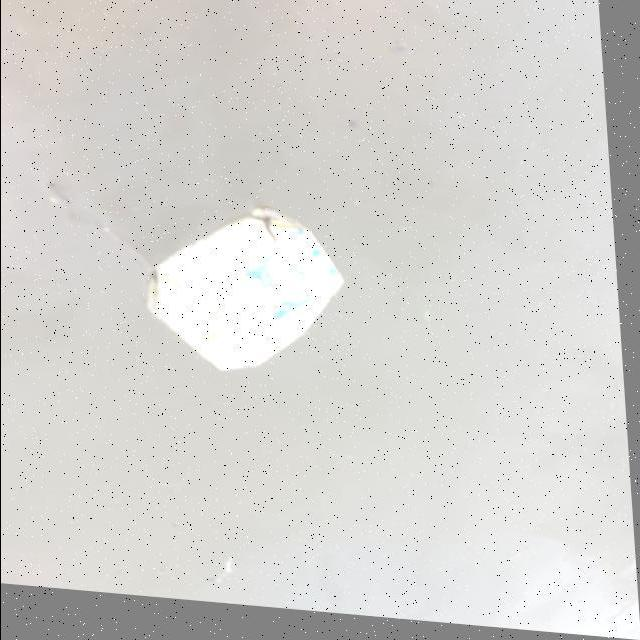Waste: (138, 200, 349, 383)
